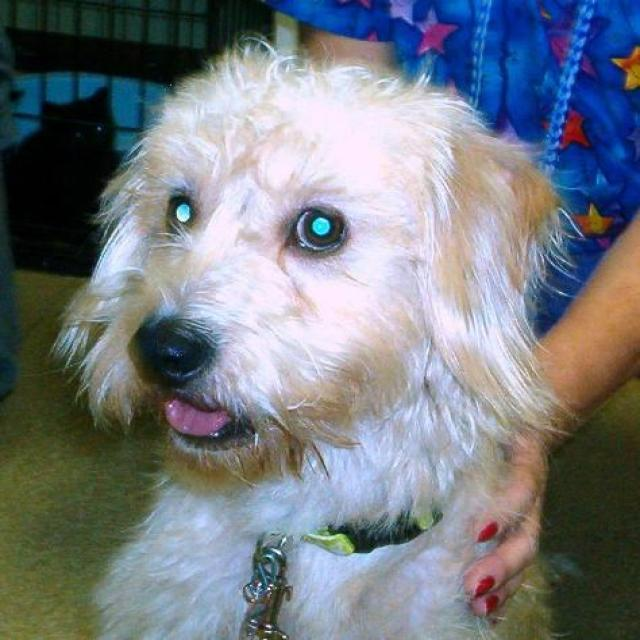Dogs: (47, 33, 582, 639)
